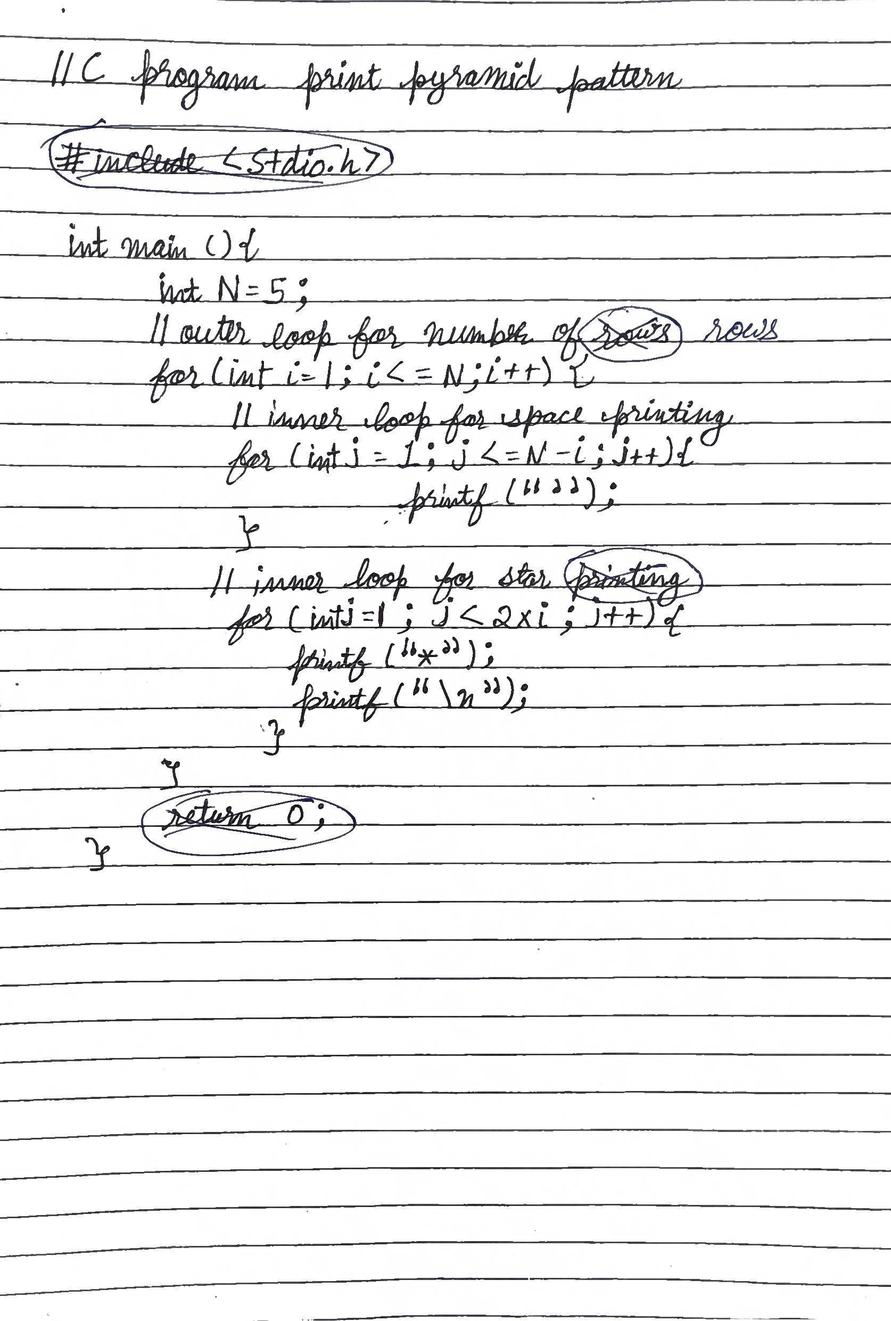cuttings: (39, 117, 396, 196), (140, 788, 357, 858), (562, 546, 705, 607), (575, 305, 684, 365)
